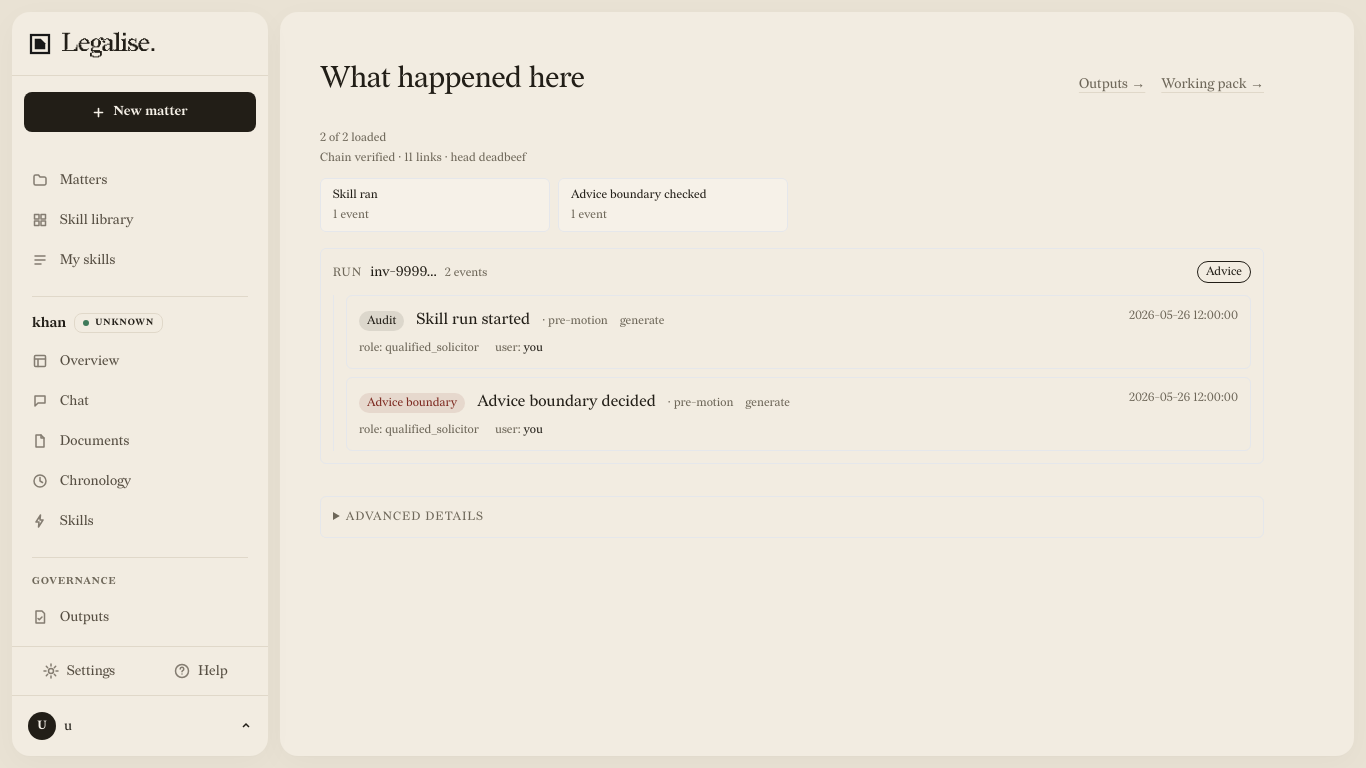
Scenario: ReconstructionView — basic render › renders timeline rows with source pill, action, actor
Expected: the text "Skill run started" is shown, [416, 308, 530, 332]
Expected: the text "Advice boundary decided" is shown, [477, 390, 656, 414]
Click the button that starts with "Audit" at (382, 320), box [359, 308, 1238, 332]
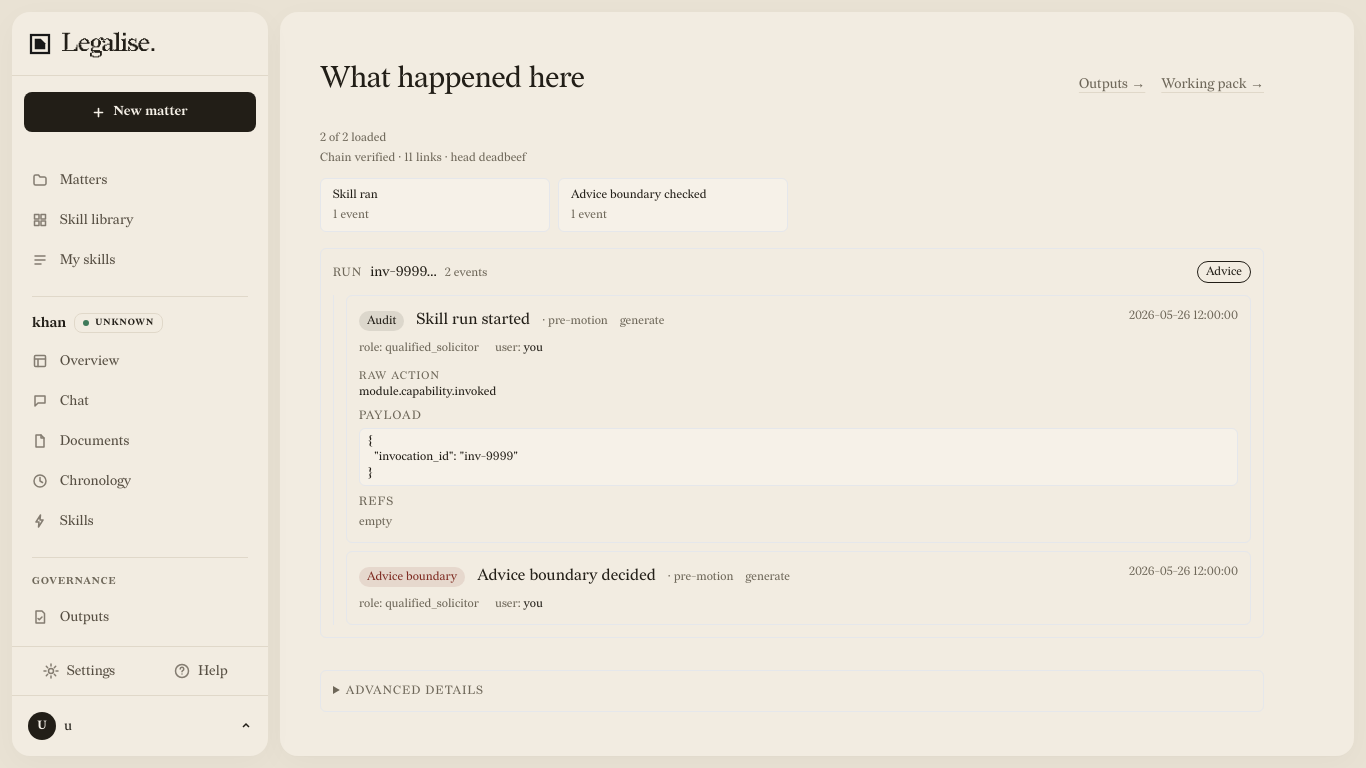
Expected: the text "Raw action" is shown, [359, 368, 440, 382]
Expected: the text "module.capability.invoked" is shown, [359, 384, 496, 399]
